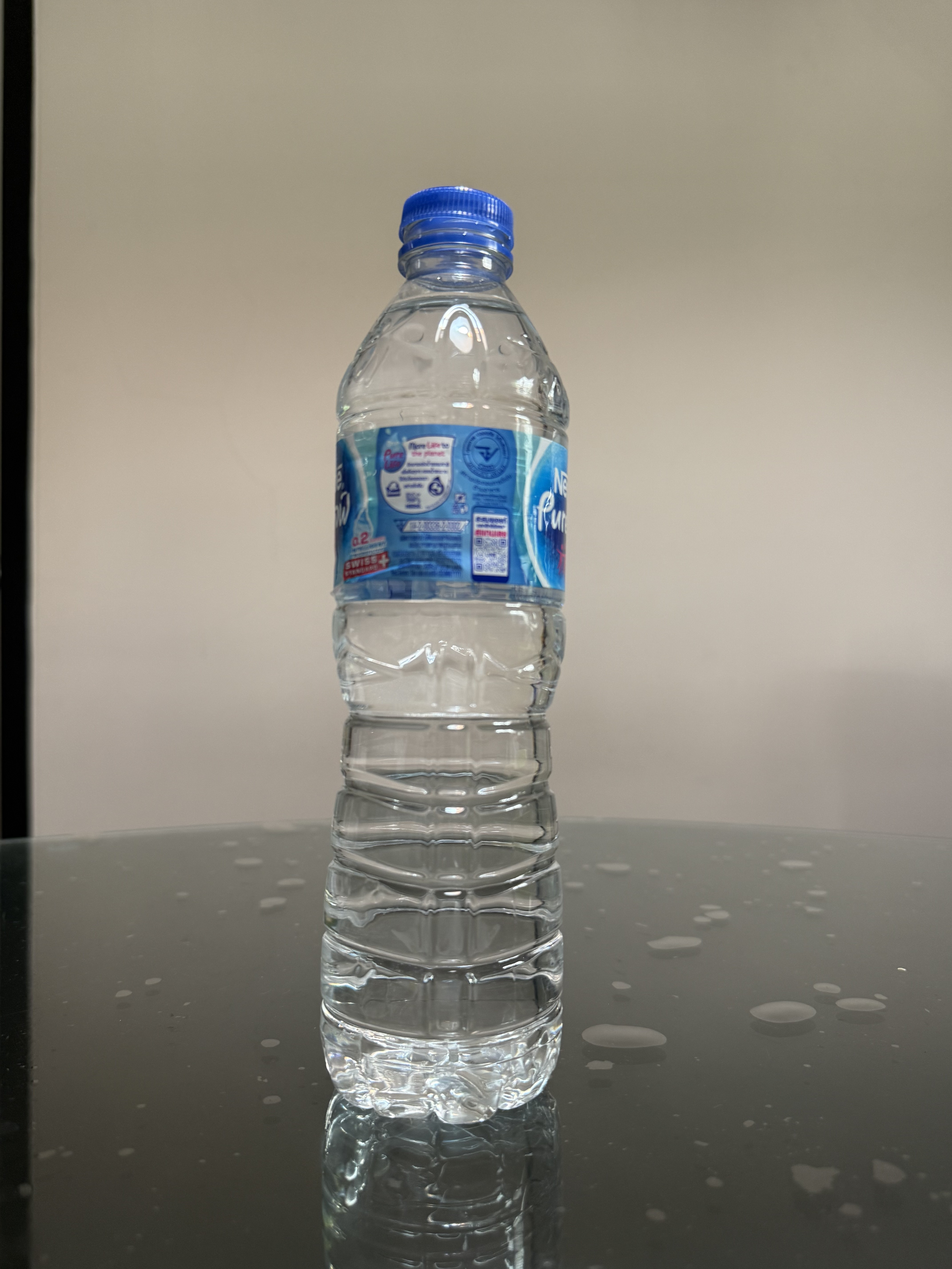half_cap: (395, 181, 516, 279)
